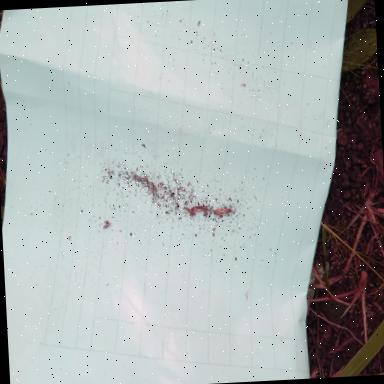pbw: (190, 204, 212, 214), (212, 207, 234, 215), (184, 206, 194, 216), (102, 222, 111, 228), (144, 174, 148, 184)
